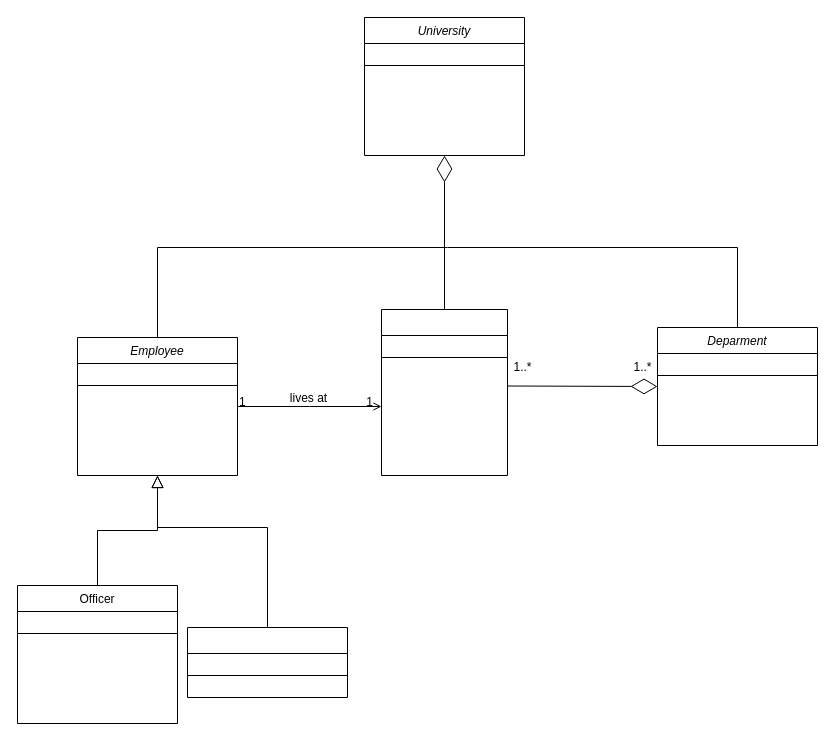
Some shapes in this 835 by 741 pixel diagram are drawn without their labels. The shapes that lost their labels are listed below. From the top down, each one's centre as x and y in pixels, then its label:
point 444,392: Office
point 267,662: Professor
